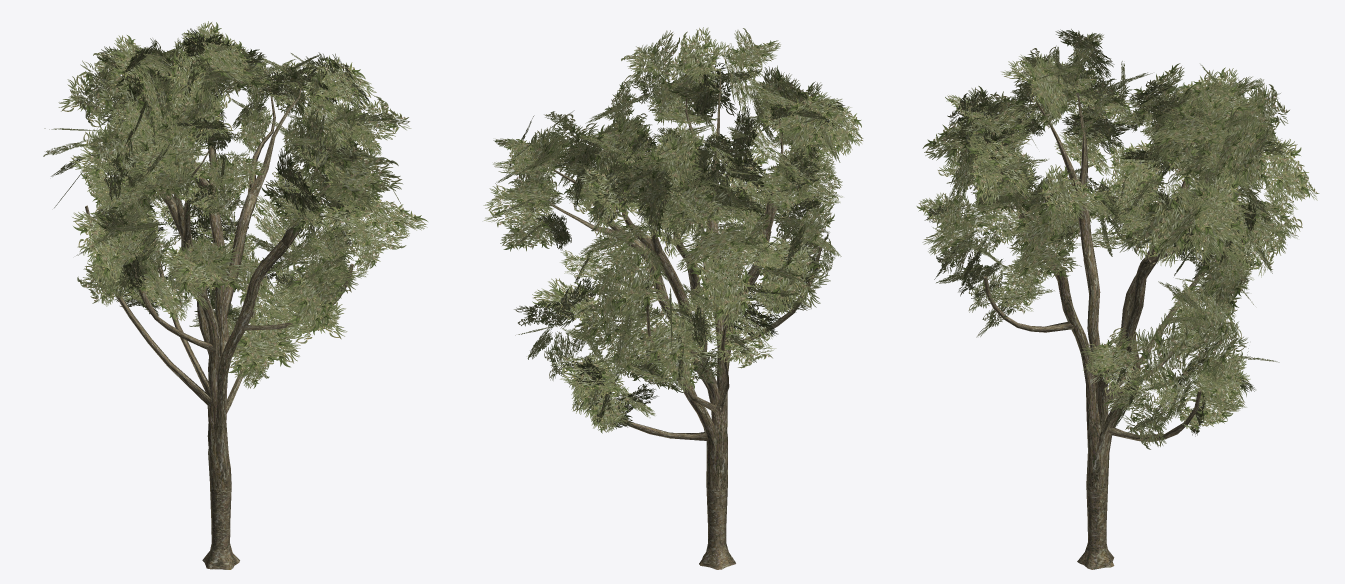
The model's file is Blue_Gum_Eucalyptus_Model_0.obj.
3 views of the same model, side by side, from view 1: azimuth 30°, elevation 25°; view 2: azimuth 150°, elevation 25°; view 3: azimuth 270°, elevation 25° (orthographic).
Visible parts, largest first — view 1: Foliage__leafcard, Bark; view 2: Foliage__leafcard, Bark; view 3: Foliage__leafcard, Bark.
Part boxes in pixels (bbox=[...]): Foliage__leafcard: bbox=[43, 21, 427, 388]; Bark: bbox=[85, 79, 353, 569]; Foliage__leafcard: bbox=[483, 27, 863, 433]; Bark: bbox=[548, 78, 823, 569]; Foliage__leafcard: bbox=[916, 29, 1319, 449]; Bark: bbox=[983, 80, 1244, 569].
Size of the model in its own units: 17.46 by 25 by 18.46.
2 materials, 2 textured.
